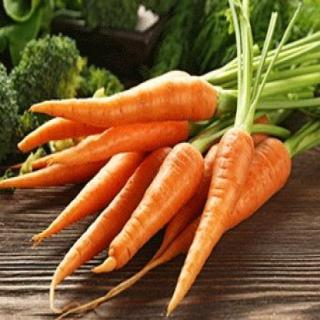Wortel: (168, 128, 254, 312), (30, 77, 217, 130)
